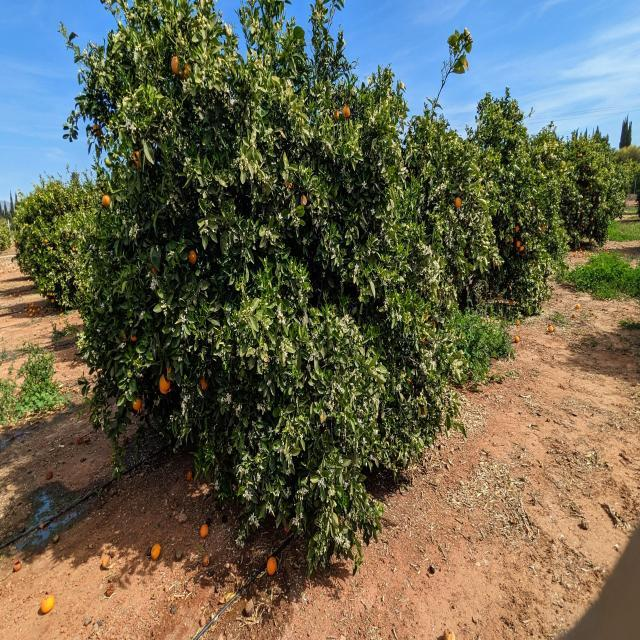Bunga: (123, 117, 131, 130), (129, 122, 136, 133), (250, 512, 256, 524), (361, 437, 368, 447), (226, 304, 232, 314), (134, 224, 140, 234), (294, 515, 300, 525), (268, 426, 274, 436), (344, 538, 350, 548), (428, 248, 434, 258), (338, 534, 343, 545), (226, 393, 231, 403), (244, 489, 249, 499), (248, 491, 253, 501), (300, 487, 306, 495), (255, 520, 260, 529), (122, 216, 126, 227), (285, 469, 291, 476), (278, 212, 283, 220), (204, 228, 209, 236), (150, 281, 154, 291), (154, 278, 159, 286), (268, 504, 272, 514), (248, 430, 252, 440), (228, 444, 232, 454), (258, 446, 263, 454), (369, 416, 374, 424), (370, 208, 376, 214), (337, 383, 341, 392), (320, 478, 324, 487), (120, 342, 125, 349), (316, 422, 321, 429), (355, 262, 359, 270), (284, 350, 288, 358), (237, 404, 241, 412), (256, 403, 260, 411), (282, 318, 286, 326), (182, 316, 186, 324), (279, 446, 283, 454), (300, 433, 304, 441), (300, 512, 304, 520), (390, 434, 394, 442), (358, 418, 362, 426), (351, 386, 355, 394), (398, 314, 402, 322), (428, 278, 432, 286), (442, 182, 446, 190), (353, 86, 357, 94), (260, 432, 265, 438), (373, 428, 378, 434), (362, 181, 366, 188), (94, 293, 98, 300), (258, 474, 262, 481), (257, 441, 261, 448), (330, 394, 334, 401), (422, 249, 426, 256), (307, 418, 310, 427), (275, 491, 280, 496), (268, 229, 272, 235), (301, 276, 305, 282), (302, 238, 306, 244), (266, 324, 270, 330), (278, 311, 282, 317), (359, 334, 362, 342), (163, 310, 167, 316), (100, 302, 104, 308), (319, 550, 323, 556), (340, 388, 344, 394), (333, 382, 337, 388), (398, 384, 402, 390), (433, 274, 436, 282), (426, 245, 429, 253), (332, 389, 336, 394), (110, 250, 113, 256), (324, 546, 327, 552), (373, 398, 376, 404), (385, 424, 388, 430), (370, 454, 373, 460), (367, 250, 370, 256), (432, 361, 434, 368), (206, 220, 208, 226), (332, 402, 334, 408), (426, 209, 428, 215)
Jeruk Sudah Matang: (170, 54, 183, 72), (160, 378, 172, 394), (267, 558, 278, 574), (132, 151, 142, 168), (182, 62, 190, 82), (150, 546, 162, 558), (189, 251, 199, 263), (134, 399, 144, 411), (200, 523, 210, 535), (91, 125, 101, 135), (201, 380, 210, 390), (102, 195, 110, 205), (343, 105, 350, 116), (455, 198, 462, 208), (334, 109, 339, 120), (130, 336, 136, 342), (516, 241, 521, 247), (515, 226, 520, 232), (520, 245, 524, 251), (123, 333, 126, 341), (542, 226, 546, 230)
